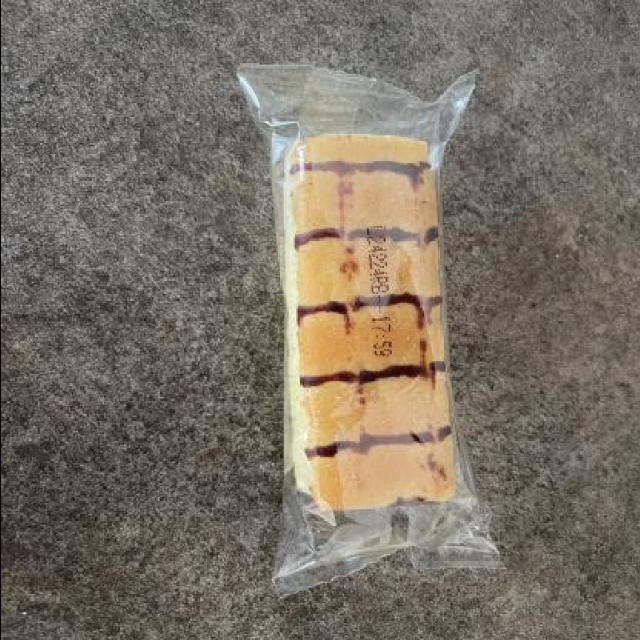Merendine packaged: (268, 123, 462, 512)
